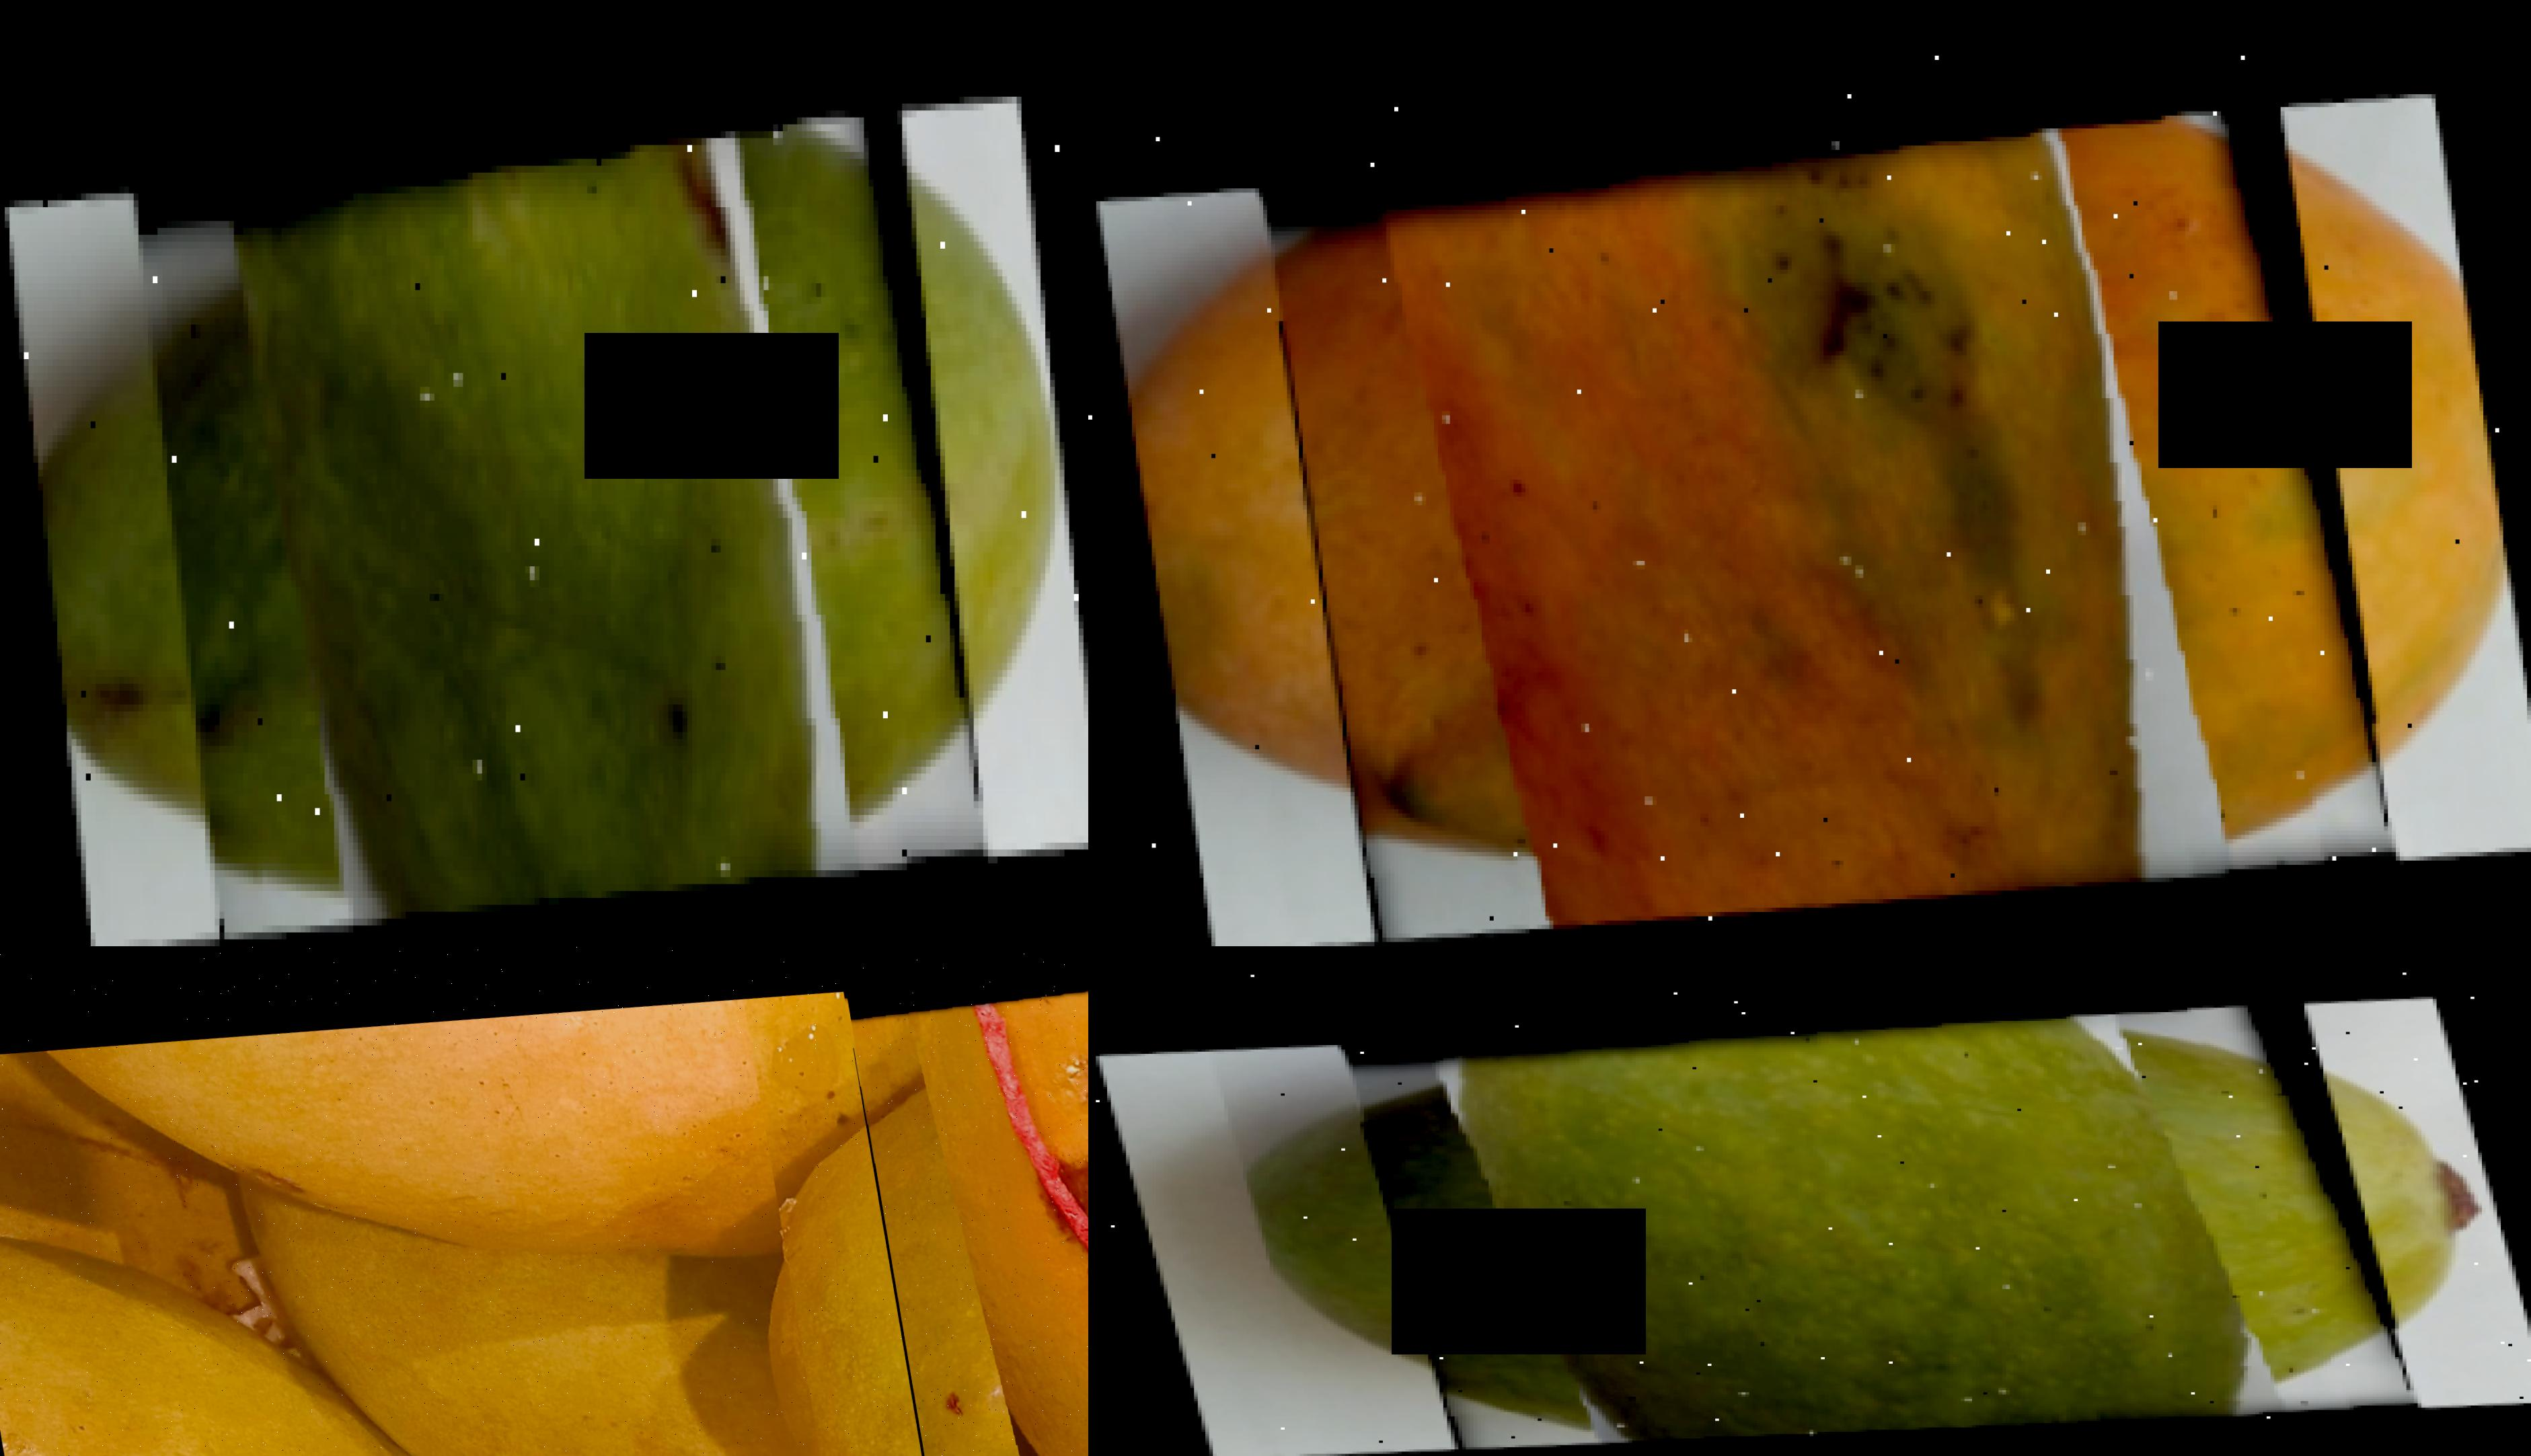Ripe: (1253, 35, 2395, 947), (841, 947, 1088, 1456)
Unripe: (127, 36, 986, 947), (1335, 966, 2418, 1456)
